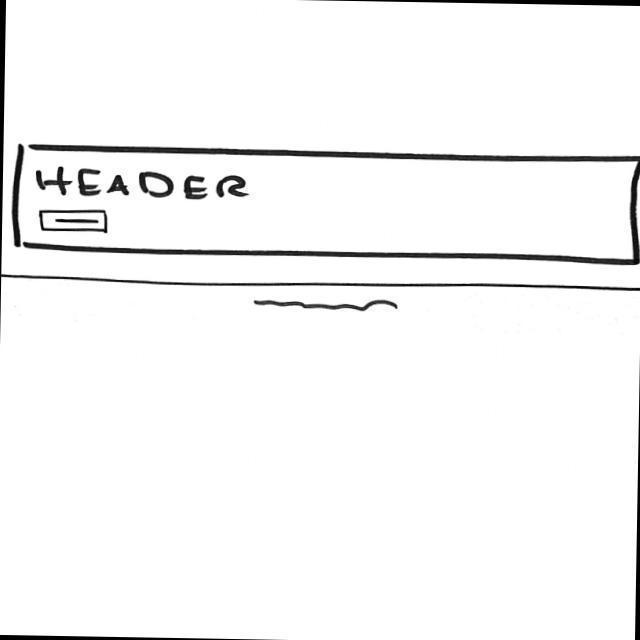container: (3, 140, 640, 267)
icon-button: (38, 207, 110, 235)
label: (36, 163, 252, 207)
text: (253, 298, 404, 315)
